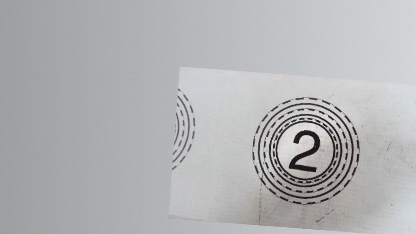2r: (246, 91, 364, 209)
